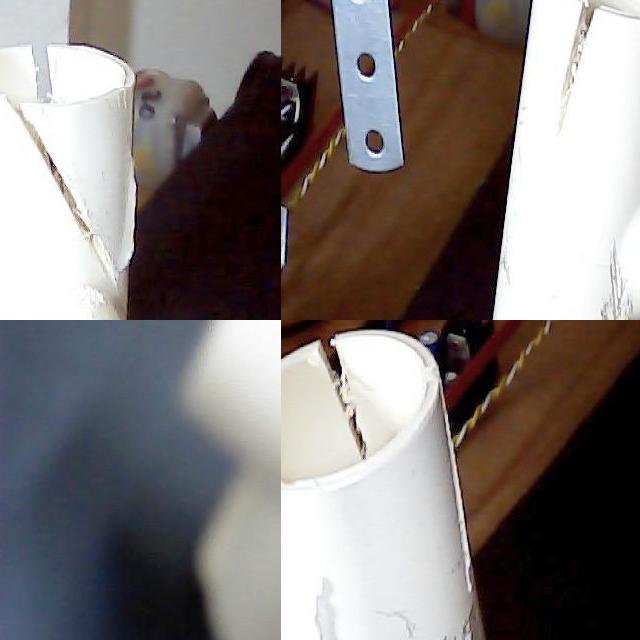Defective: (0, 40, 164, 320), (1, 88, 129, 320), (545, 0, 640, 154), (300, 336, 385, 487), (496, 245, 640, 320), (365, 581, 499, 640), (558, 11, 619, 137), (439, 378, 468, 630), (12, 46, 72, 108), (302, 563, 350, 640), (595, 260, 630, 320)
T Joint: (281, 341, 485, 640), (0, 43, 137, 320)
